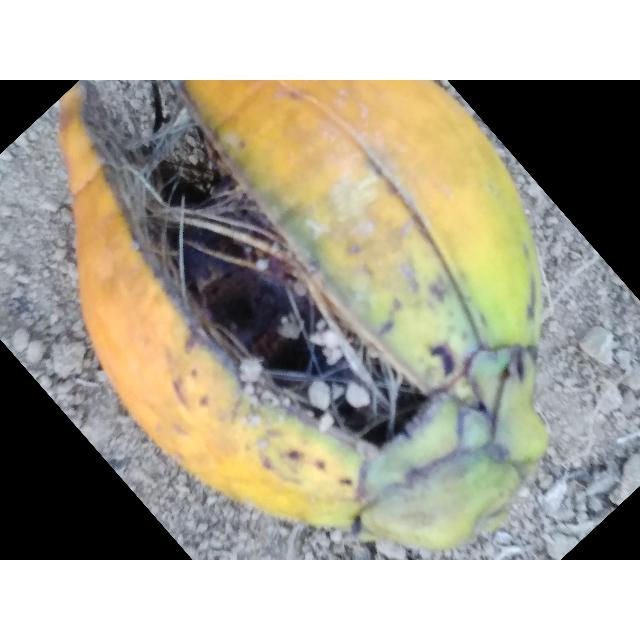damaged: (60, 80, 548, 550)
